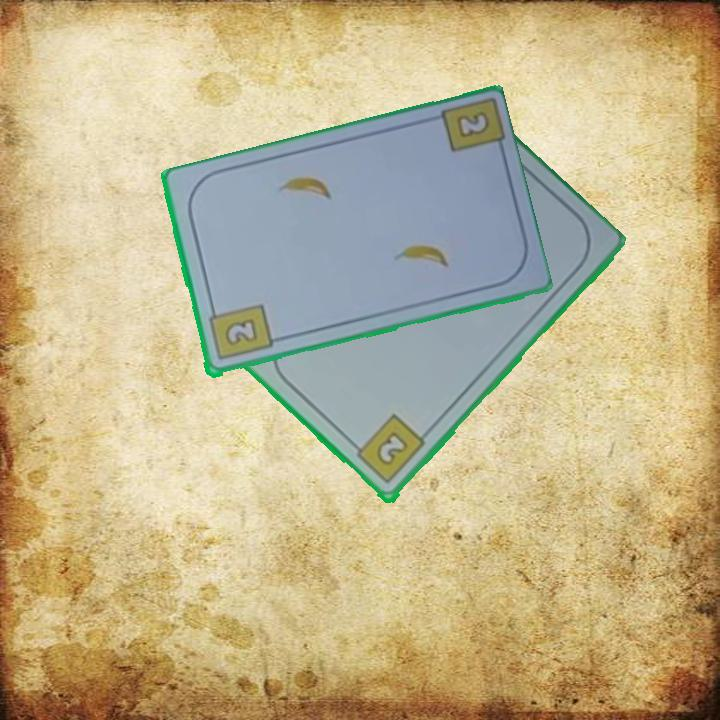2b: (347, 411, 428, 488), (204, 301, 275, 364), (456, 111, 489, 138)
